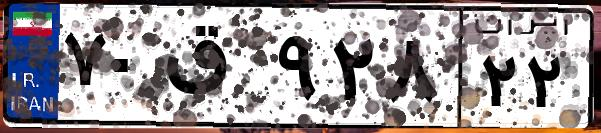0: (110, 28, 158, 98)
2: (330, 28, 385, 110), (475, 38, 525, 113), (525, 38, 570, 115)
7: (57, 26, 110, 100)
8: (385, 28, 445, 110)
9: (270, 28, 330, 110)
ق: (158, 20, 270, 120)
